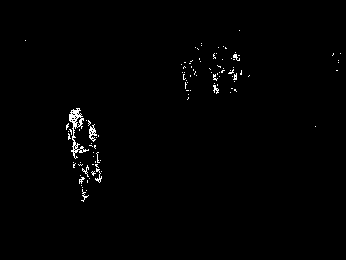person: (65, 108, 103, 203)
